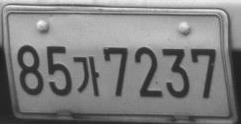2: (134, 46, 162, 97)
3: (163, 48, 189, 98)
5: (45, 45, 72, 96)
7: (102, 46, 128, 97), (190, 48, 216, 98)
8: (16, 43, 44, 95)
가: (73, 55, 100, 96)
